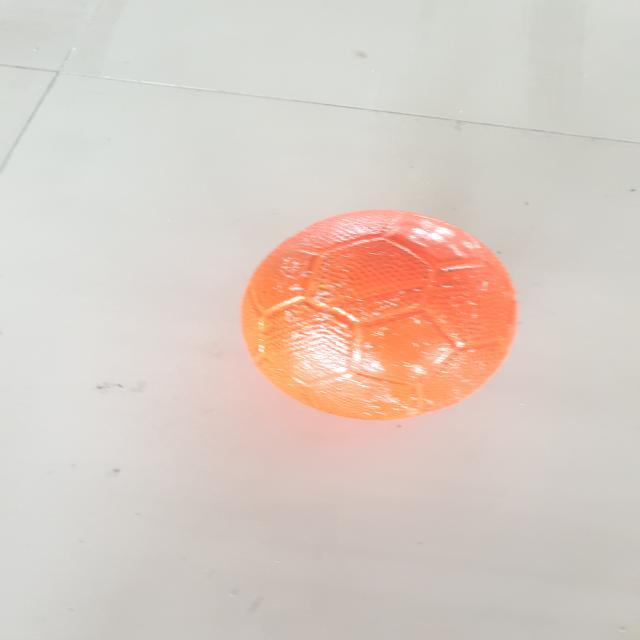bola: (232, 201, 524, 435)
